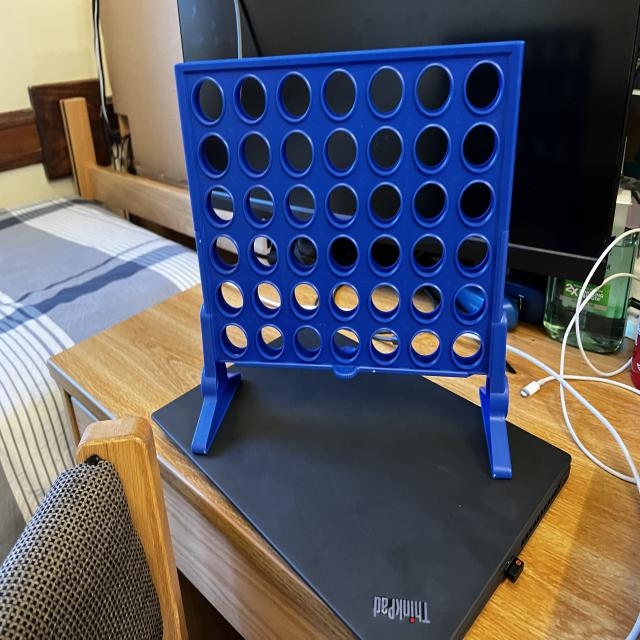Board: (176, 36, 532, 382)
